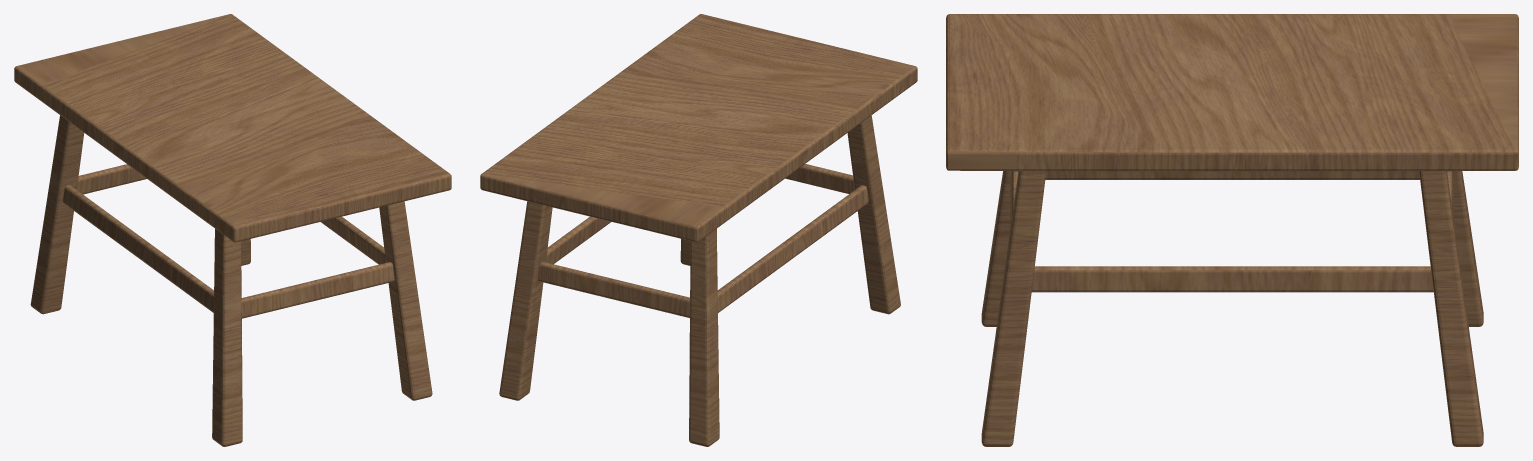
Rendered from Table.glb.
The picture shows the model from 3 angles, left to right: view 1: azimuth 30°, elevation 25°; view 2: azimuth 150°, elevation 25°; view 3: azimuth 270°, elevation 25°; orthographic projection. The views are drawn at different scales.
Visible parts, largest first — view 1: Table; view 2: Table; view 3: Table.
Part boxes in pixels (x1,y1,x2,y2): Table: (14, 14, 451, 446); Table: (480, 14, 917, 446); Table: (946, 14, 1518, 446).
Size of the model in its own units: 12.34 by 12.5 by 21.58.
Materials: 3 (3 with a texture image).
